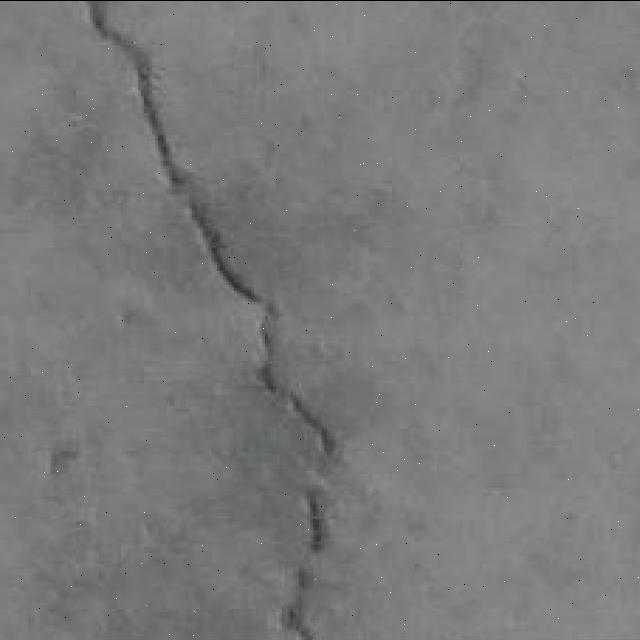crack: (86, 1, 345, 636)
